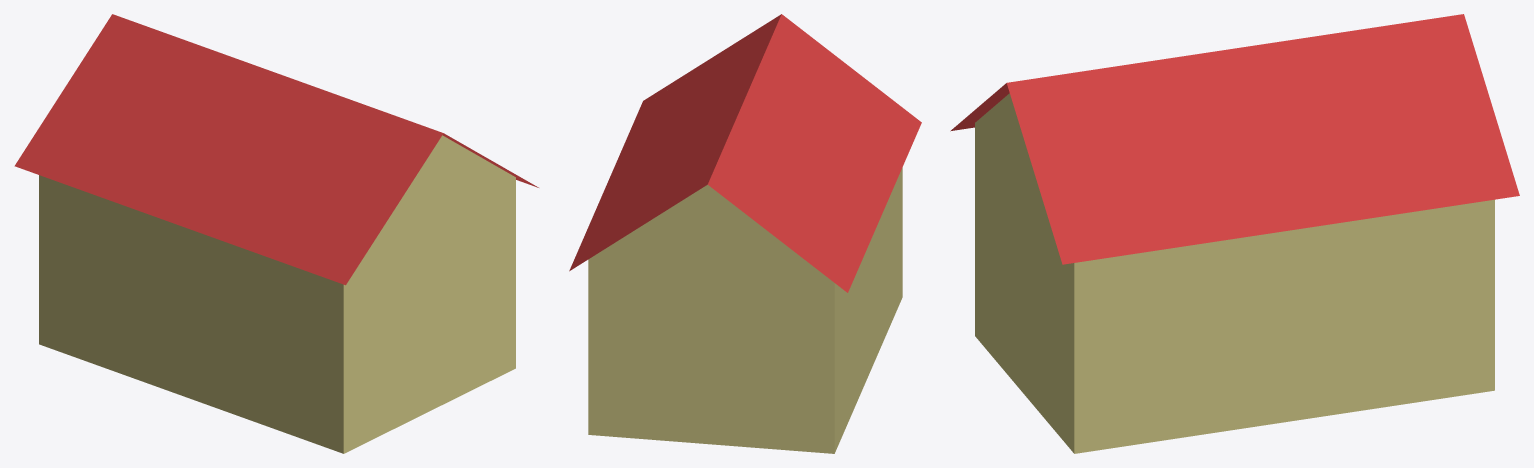
3 renders of one model, left to right at view 1: azimuth 30°, elevation 25°; view 2: azimuth 150°, elevation 25°; view 3: azimuth 270°, elevation 25°, orthographic. The views are drawn at different scales.
Size of the model in its own units: 18.4 by 21.9 by 13.37.
